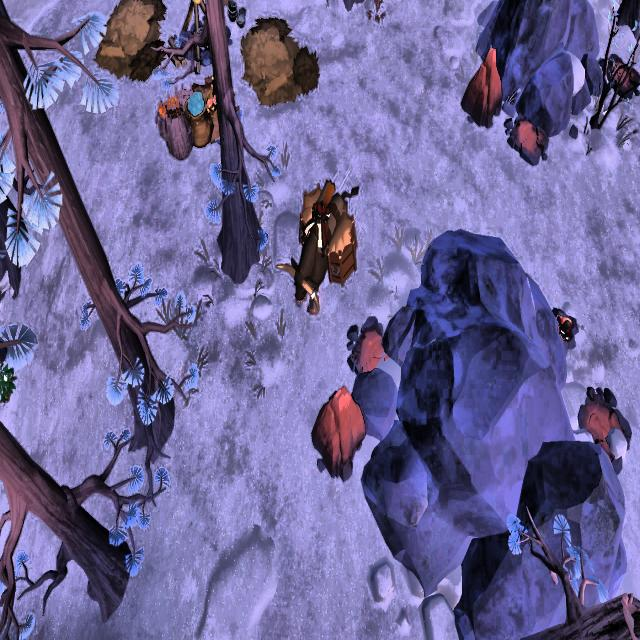fiber_t3: (0, 363, 20, 412)
rock_t5: (312, 383, 364, 484), (459, 45, 503, 134)
